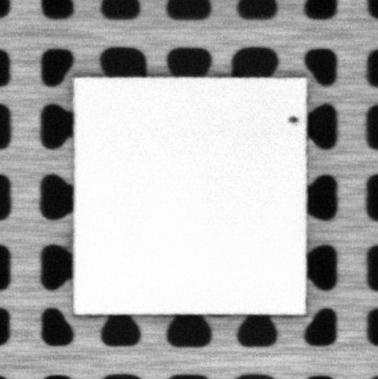DIE_INK: (286, 113, 299, 124)
